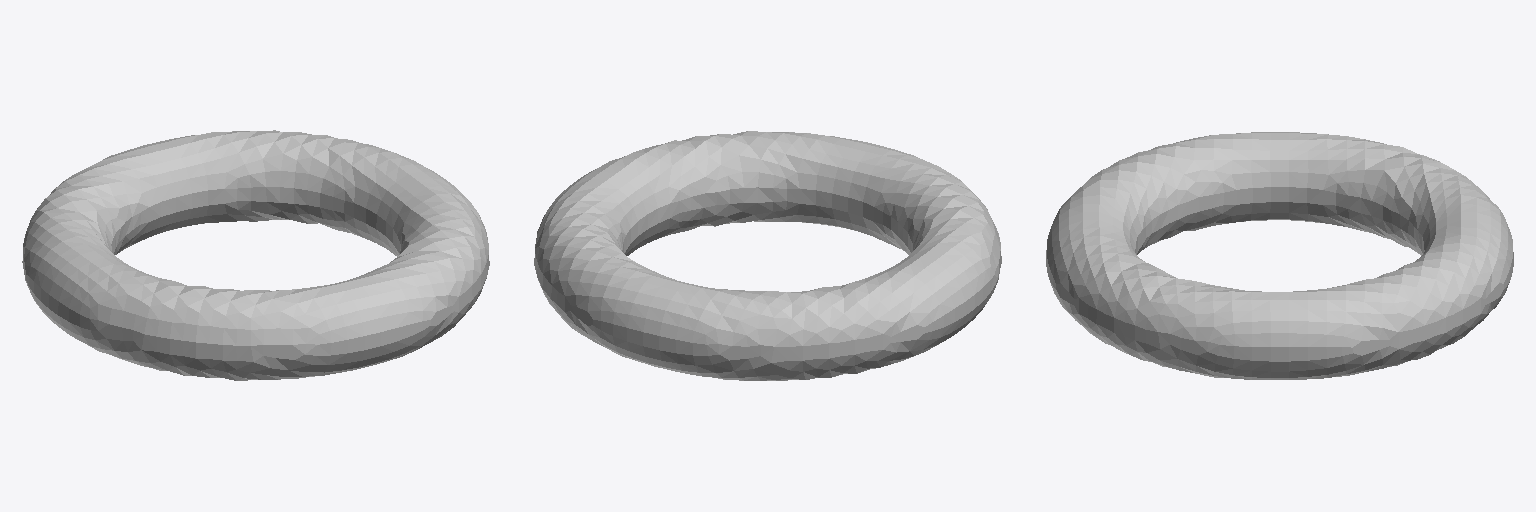
Rendered from torus_blender.obj.
3 views of the same model, side by side, from view 1: azimuth 30°, elevation 25°; view 2: azimuth 150°, elevation 25°; view 3: azimuth 270°, elevation 25° (orthographic).
Visible parts, largest first — view 1: Torus; view 2: Torus; view 3: Torus.
Part boxes in pixels (left/top/right/bottom): Torus: left=22, top=130, right=489, bottom=380; Torus: left=534, top=131, right=1001, bottom=380; Torus: left=1046, top=132, right=1513, bottom=379.
Size of the model in its own units: 2.46 by 0.4922 by 2.46.